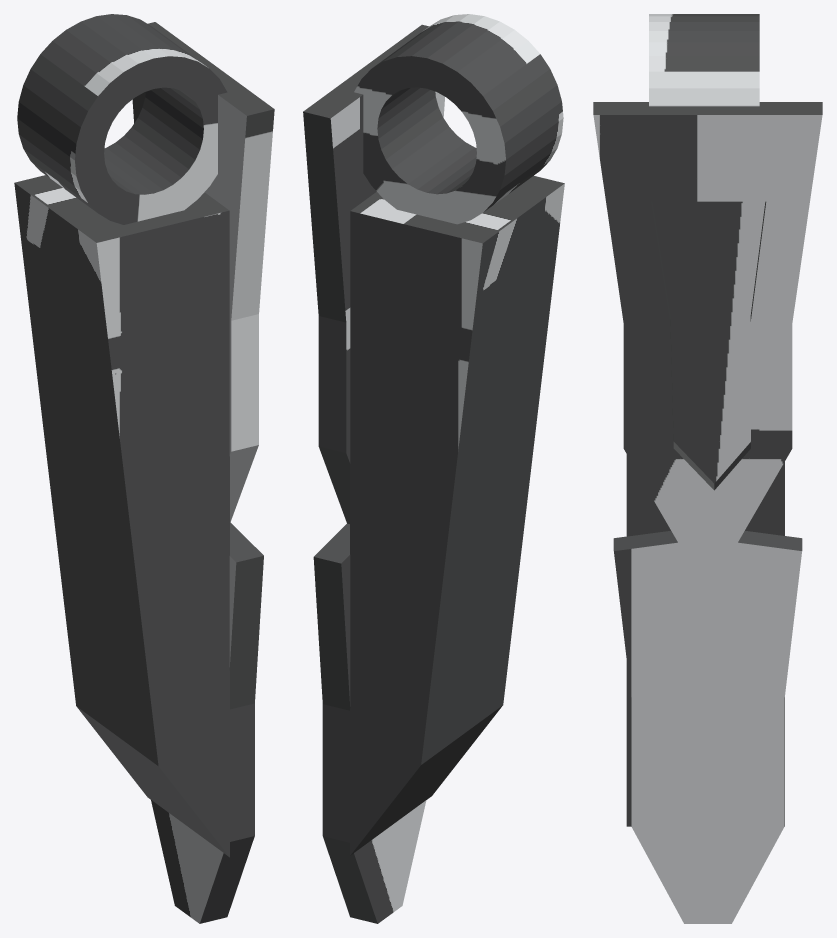
The model's file is forearm.fbx.
3 views of the same model, side by side, from view 1: azimuth 30°, elevation 25°; view 2: azimuth 150°, elevation 25°; view 3: azimuth 270°, elevation 25° (orthographic). The views are drawn at different scales.
Visible parts, largest first — view 1: Cube.002; view 2: Cube.002; view 3: Cube.002.
Boxes of the visible parts, box(x1,y1,x2,y2) form: Cube.002: box(14, 14, 274, 923); Cube.002: box(303, 14, 564, 923); Cube.002: box(593, 14, 822, 923).
Bounding box in the file's own units: 165 × 827 × 200.
Materials: 1 (1 with a texture image).
